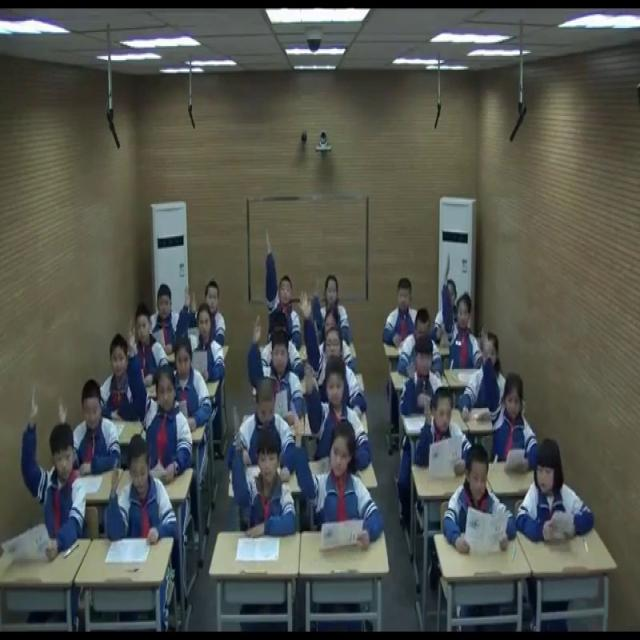focused: (520, 429, 599, 552), (440, 452, 518, 564), (231, 382, 297, 491), (398, 332, 452, 418), (170, 340, 217, 433), (103, 331, 140, 425), (398, 310, 441, 381), (134, 313, 173, 385), (383, 280, 422, 348), (150, 288, 183, 345)
raising_hand: (292, 406, 386, 556), (122, 316, 194, 486), (20, 387, 86, 560), (104, 434, 179, 547), (478, 334, 540, 466), (304, 355, 371, 472), (297, 293, 364, 407), (58, 375, 115, 476), (440, 247, 484, 375), (416, 384, 474, 481), (248, 315, 304, 415), (262, 226, 302, 353), (179, 282, 228, 381), (313, 266, 355, 346), (187, 274, 227, 345)
